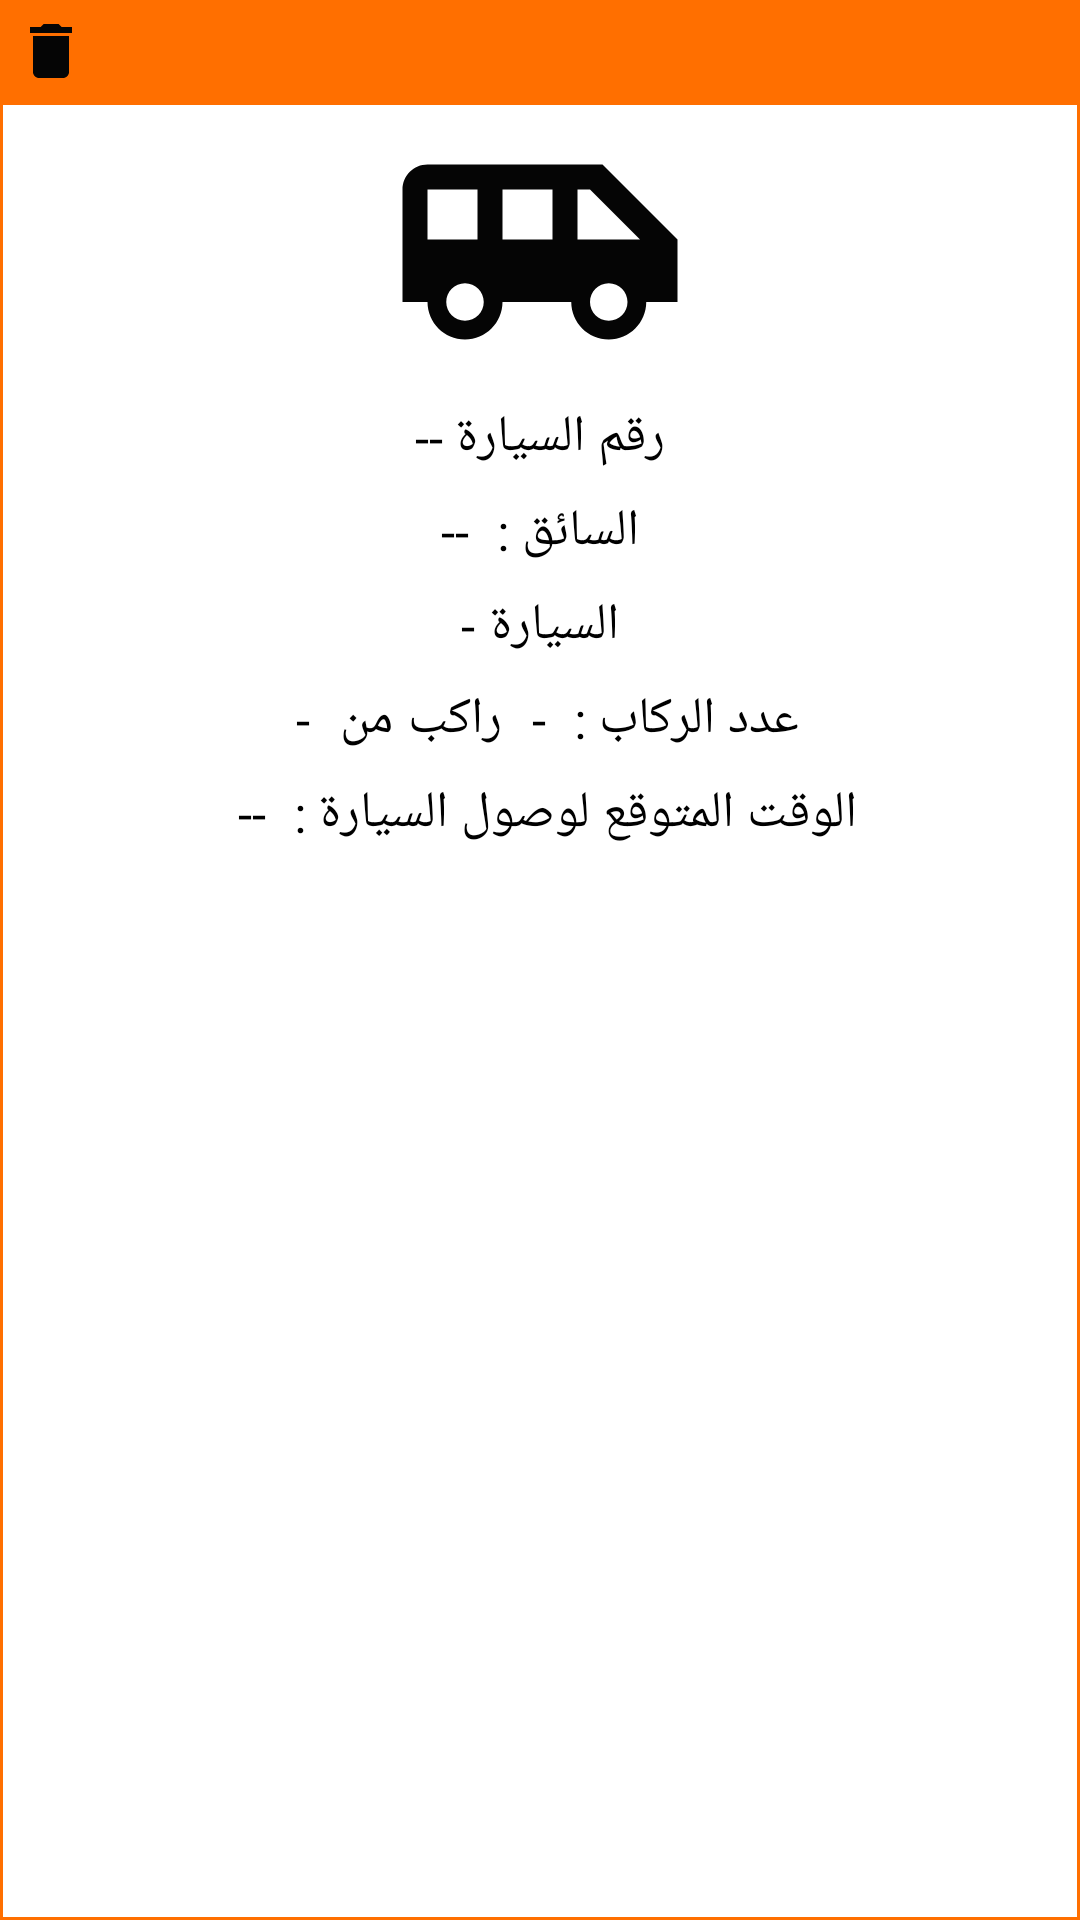

Icon bounding boxes for this 1080*1920 phone screenshot, format (x1, y1, x2, y2):
delete: (30, 24, 72, 78)
